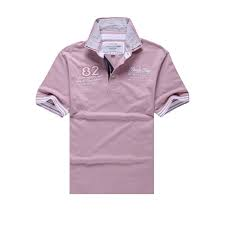S_polo shirt: (38, 14, 196, 200)
